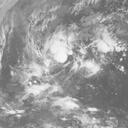cyclone: (32, 30, 77, 66)
